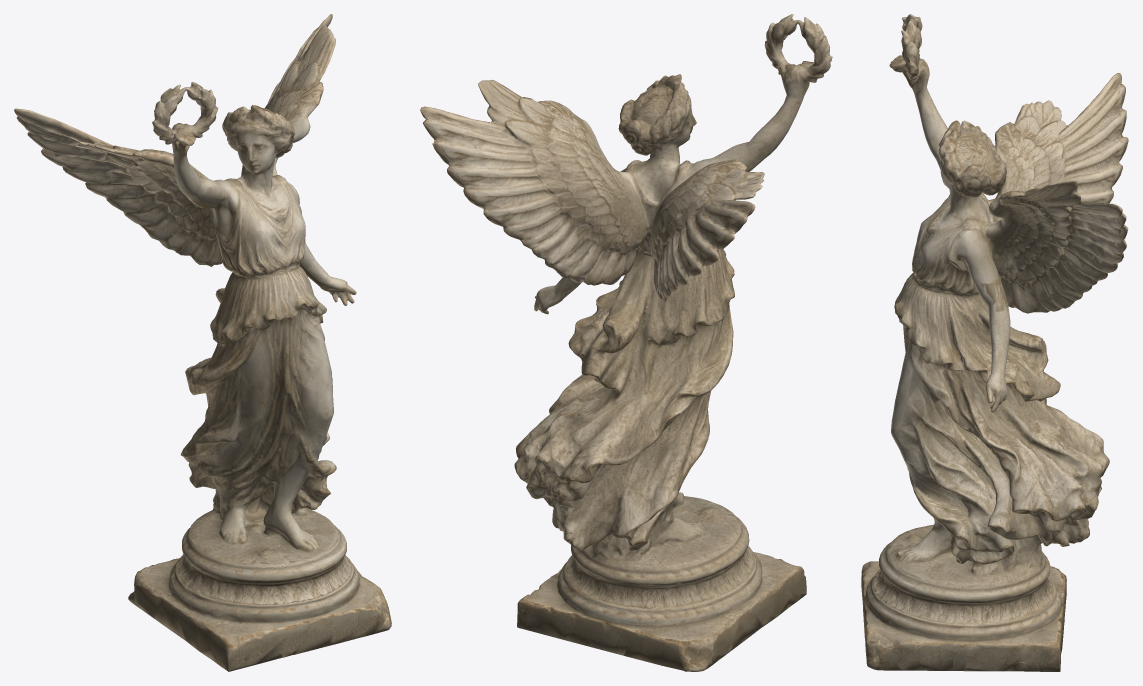
The model's file is WF_GreekRelics_NikeStatue.fbx.
3 renders of one model, left to right at view 1: azimuth 30°, elevation 25°; view 2: azimuth 150°, elevation 25°; view 3: azimuth 270°, elevation 25°, orthographic. The views are drawn at different scales.
Visible parts, largest first — view 1: Mesh1.0; view 2: Mesh1.0; view 3: Mesh1.0.
Boxes of the visible parts, <box> form: Mesh1.0: <box>14,14,391,671</box>; Mesh1.0: <box>420,14,832,671</box>; Mesh1.0: <box>861,14,1128,671</box>.
Size of the model in its own units: 111 by 191 by 82.19.
1 material, 1 textured.
